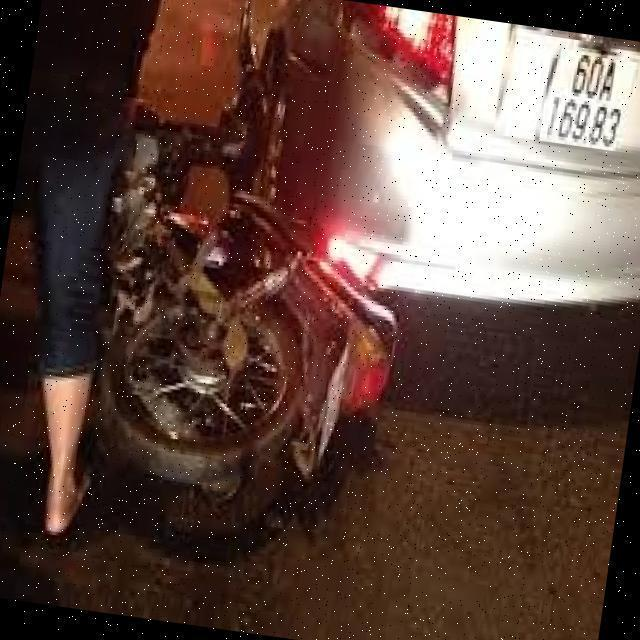accident: (35, 21, 482, 596)
